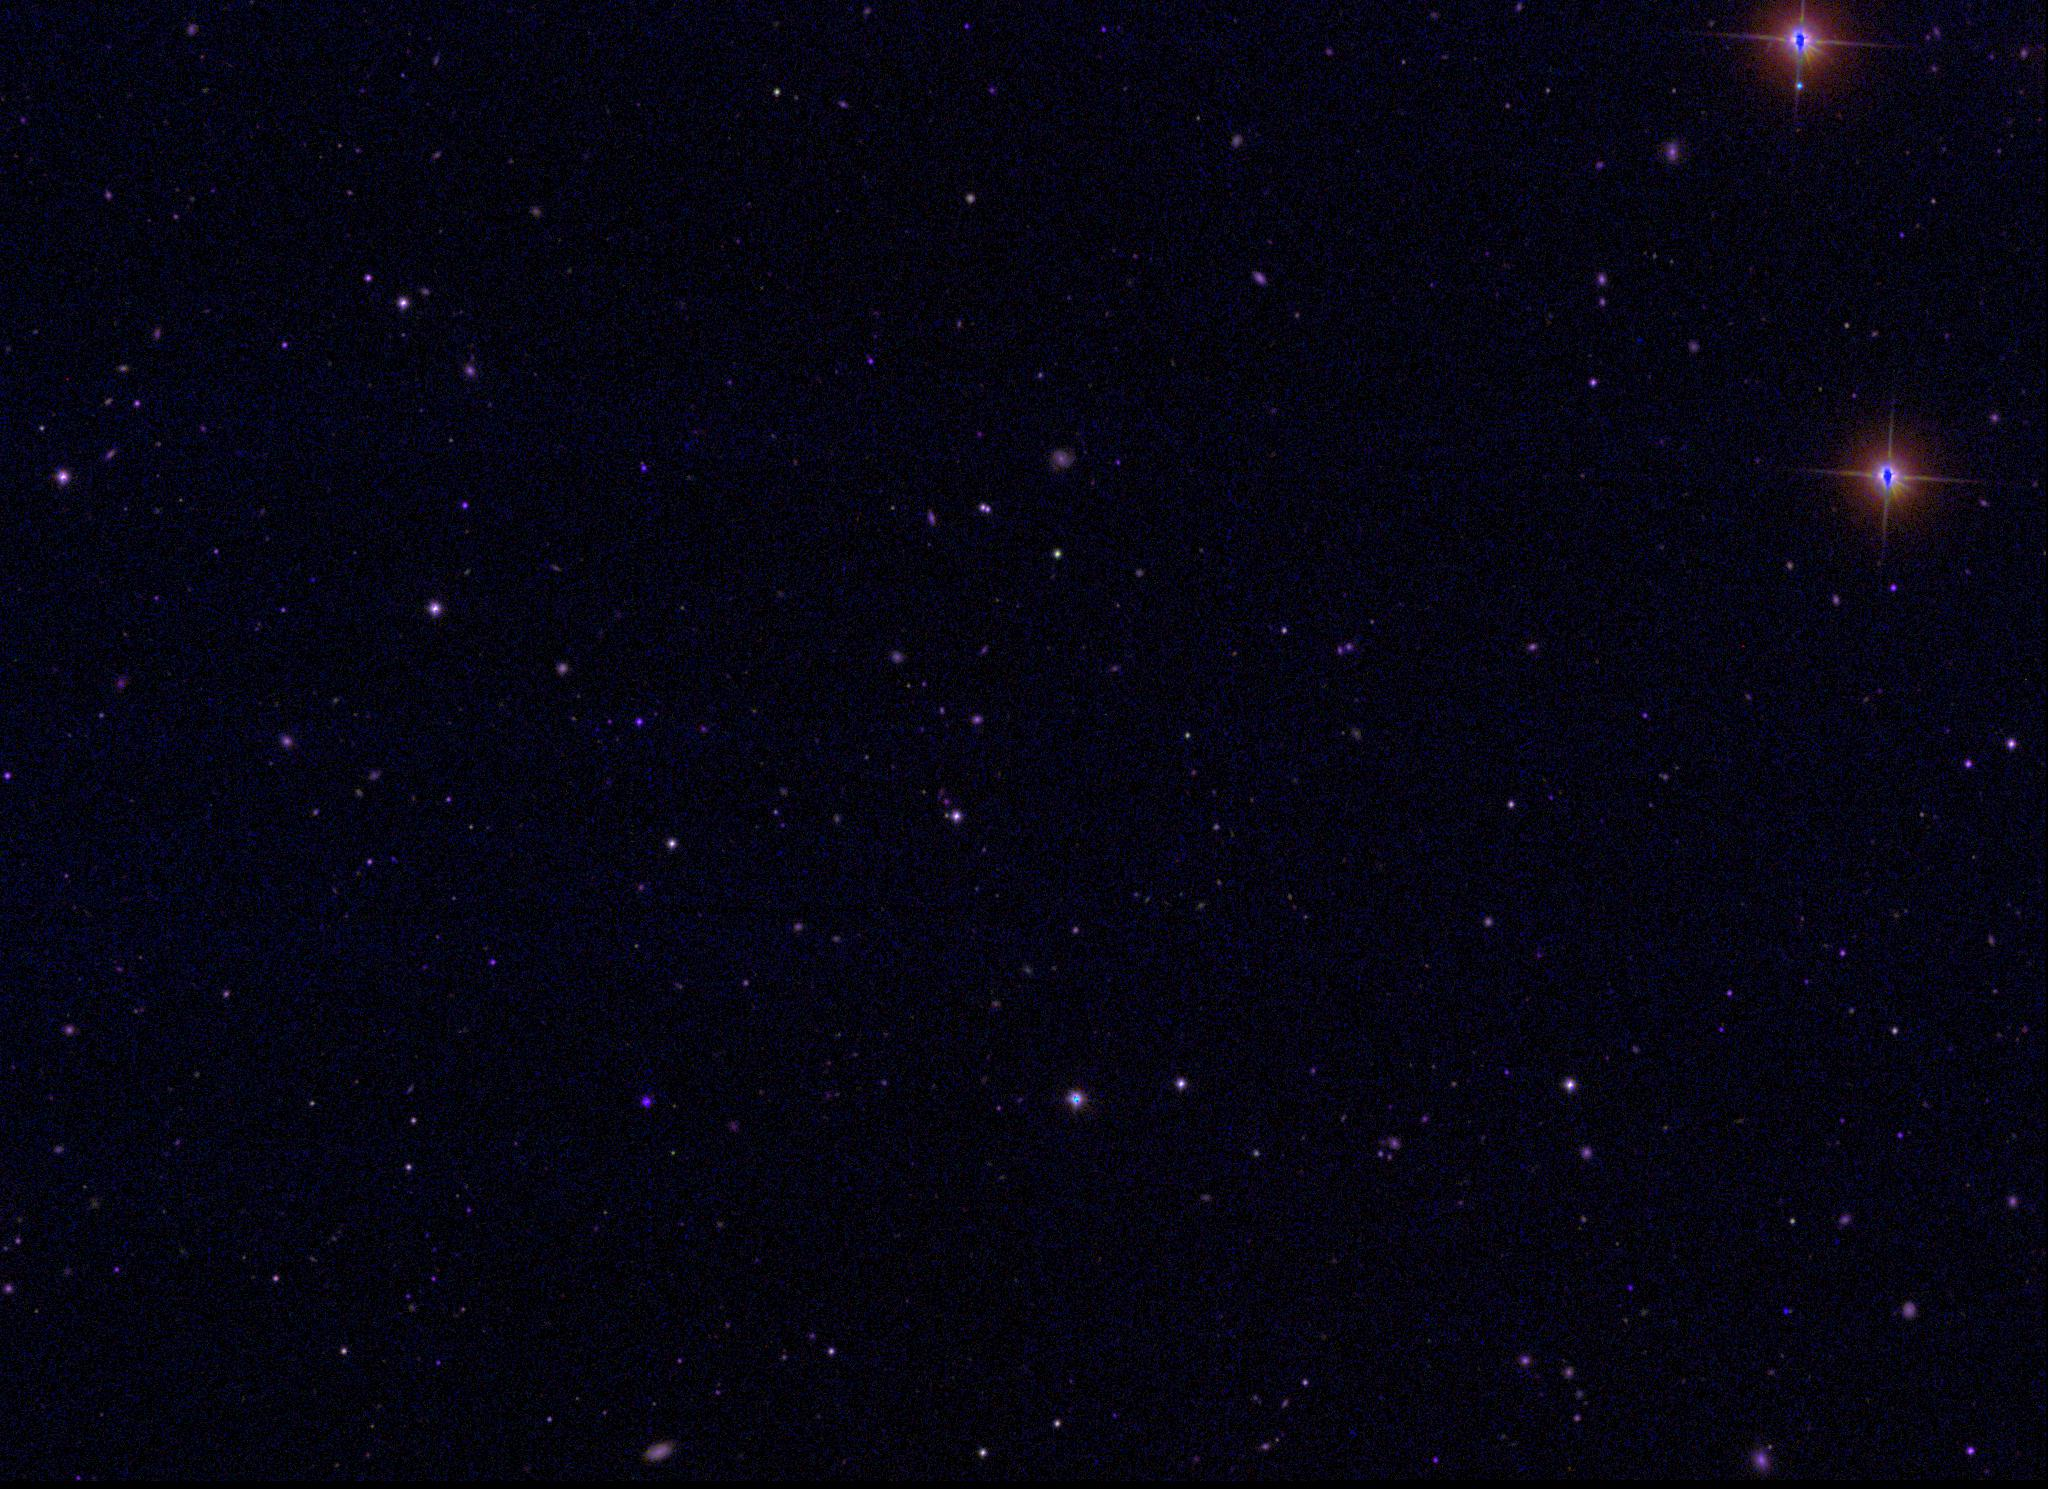L: (1779, 1301, 1794, 1316)
